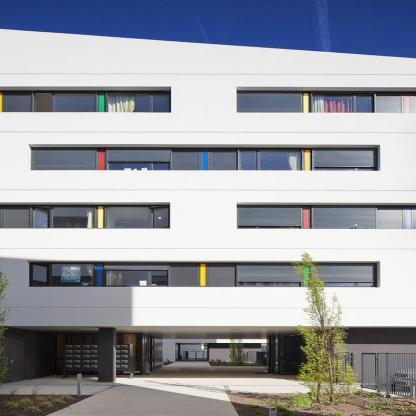Building Outline: (0, 28, 416, 382)
Dont: (288, 251, 361, 406), (360, 352, 416, 400), (0, 268, 15, 389), (76, 373, 82, 395)
Facade: (0, 71, 416, 382)
Floor: (0, 127, 416, 185), (0, 249, 416, 305), (0, 190, 416, 243), (0, 71, 416, 121)
Floor Slab: (0, 184, 416, 190), (0, 243, 416, 249), (0, 121, 416, 127), (0, 305, 416, 310)
Ground Floor: (0, 310, 416, 382)
Pillar: (99, 328, 114, 383)
Window: (29, 262, 381, 287), (29, 145, 381, 170), (236, 203, 416, 228), (236, 87, 416, 112), (0, 203, 171, 228), (0, 87, 171, 112)
